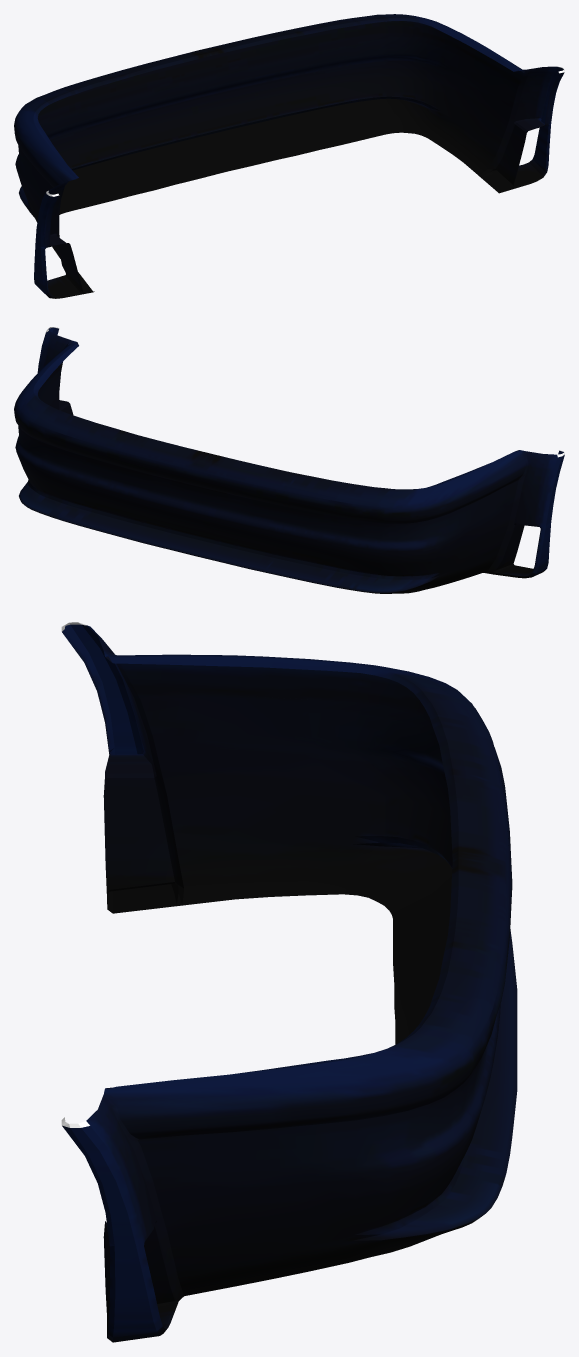
Rendered from bmw_back.fbx.
The picture shows the model from 3 angles, top to bottom: view 1: azimuth 30°, elevation 25°; view 2: azimuth 150°, elevation 25°; view 3: azimuth 270°, elevation 25°; orthographic projection. The views are drawn at different scales.
Visible parts, largest first — view 1: BUMPER_REAR_SUB0_CarPaint_0; view 2: BUMPER_REAR_SUB0_CarPaint_0; view 3: BUMPER_REAR_SUB0_CarPaint_0.
Boxes of the visible parts, bbox=[...] form: BUMPER_REAR_SUB0_CarPaint_0: bbox=[14, 14, 564, 298]; BUMPER_REAR_SUB0_CarPaint_0: bbox=[14, 327, 564, 593]; BUMPER_REAR_SUB0_CarPaint_0: bbox=[61, 622, 517, 1342].
Bounding box in the file's own units: 191 × 44.85 × 73.05.
